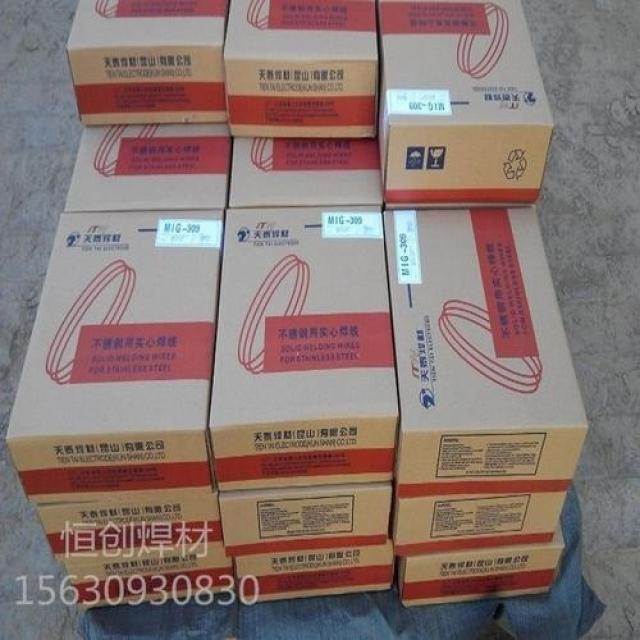box: (6, 209, 223, 503), (383, 206, 589, 499), (209, 204, 398, 492), (378, 0, 556, 206), (225, 0, 379, 138), (65, 0, 228, 125), (399, 515, 566, 608), (64, 123, 230, 212), (35, 492, 223, 567), (219, 483, 392, 559), (394, 489, 567, 558), (63, 550, 237, 613), (229, 137, 384, 207), (236, 539, 394, 602)
